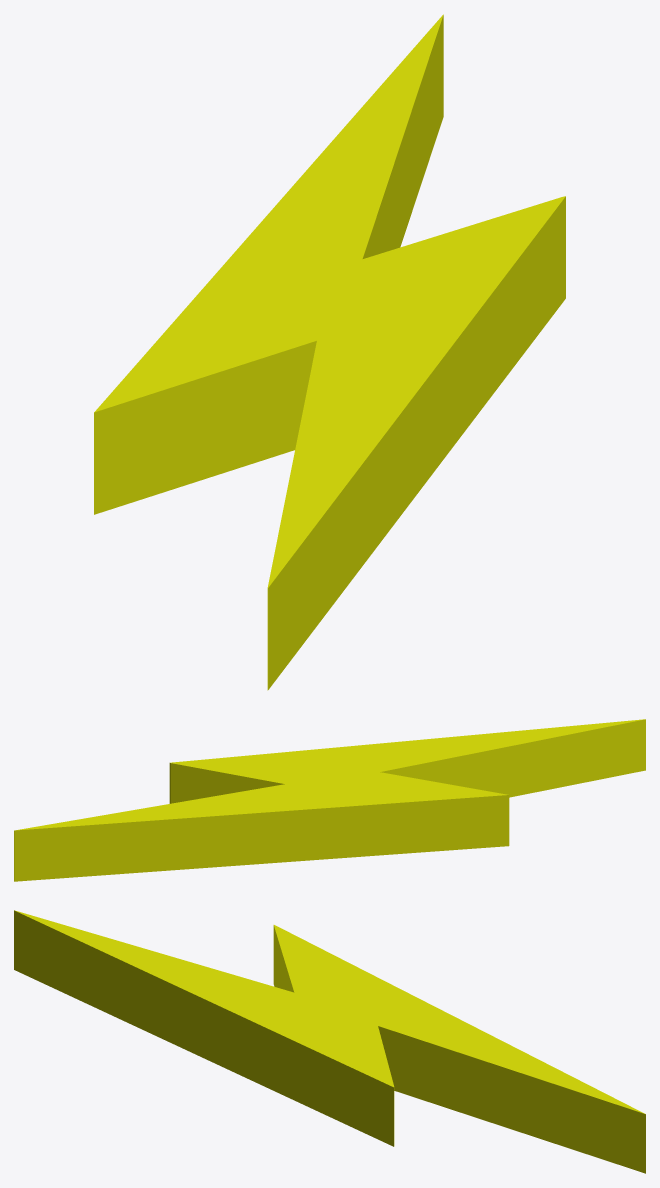
The model's file is lightening.fbx.
3 renders of one model, top to bottom at view 1: azimuth 30°, elevation 25°; view 2: azimuth 150°, elevation 25°; view 3: azimuth 270°, elevation 25°, orthographic. The views are drawn at different scales.
Visible parts, largest first — view 1: Cube; view 2: Cube; view 3: Cube.
Boxes of the visible parts, x1,y1,x2,y2 form: Cube: (94, 14, 565, 690); Cube: (14, 719, 645, 881); Cube: (14, 910, 645, 1173).
Bounding box in the file's own units: 546 × 74.17 × 715.
